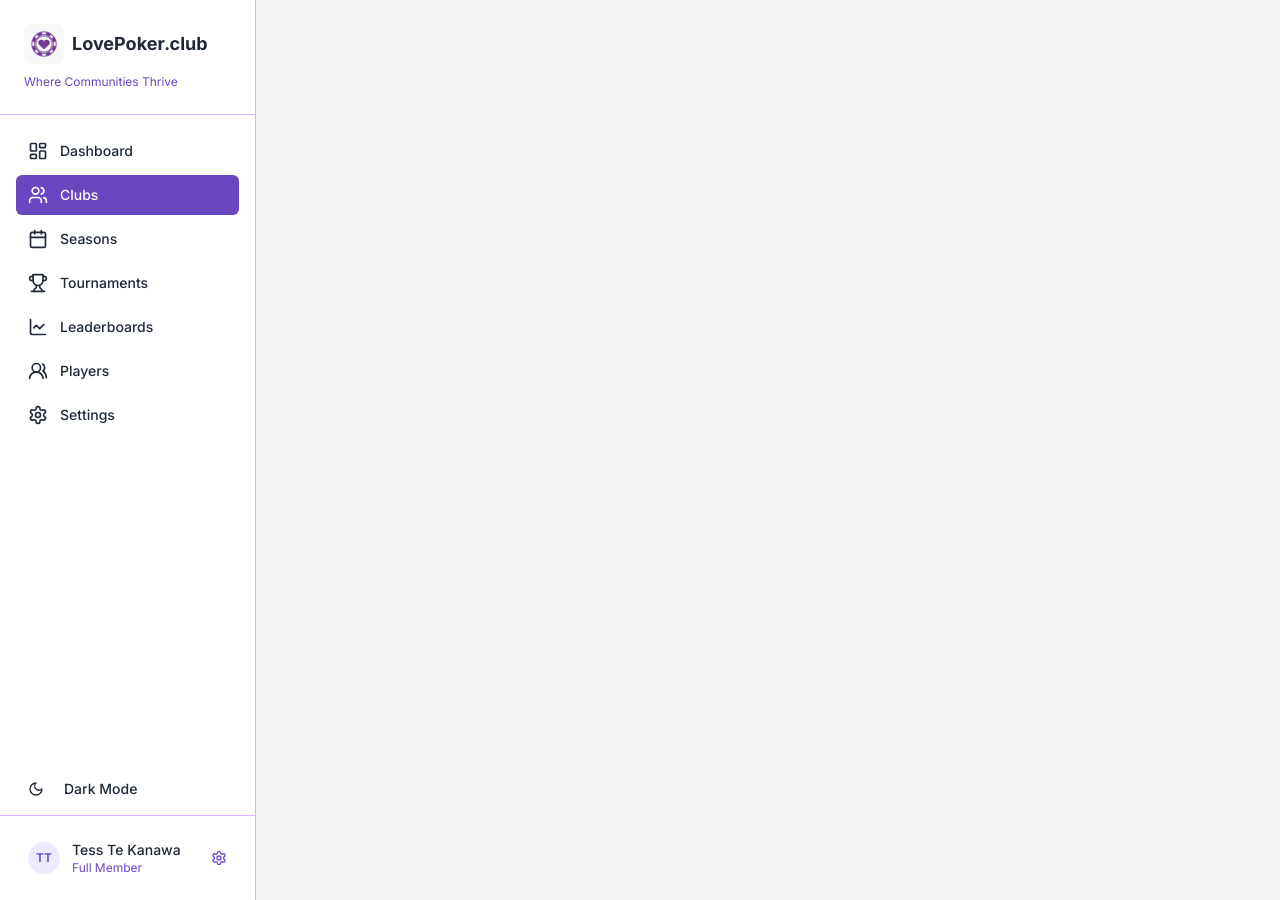
Test: Sidebar › shows who is signed in with their initials, and signs them out from the account menu
This screenshot has width=1280, height=900.
Click the button "TT Tess Te Kanawa Full Member": click(128, 858) left=16, top=832, right=239, bottom=884
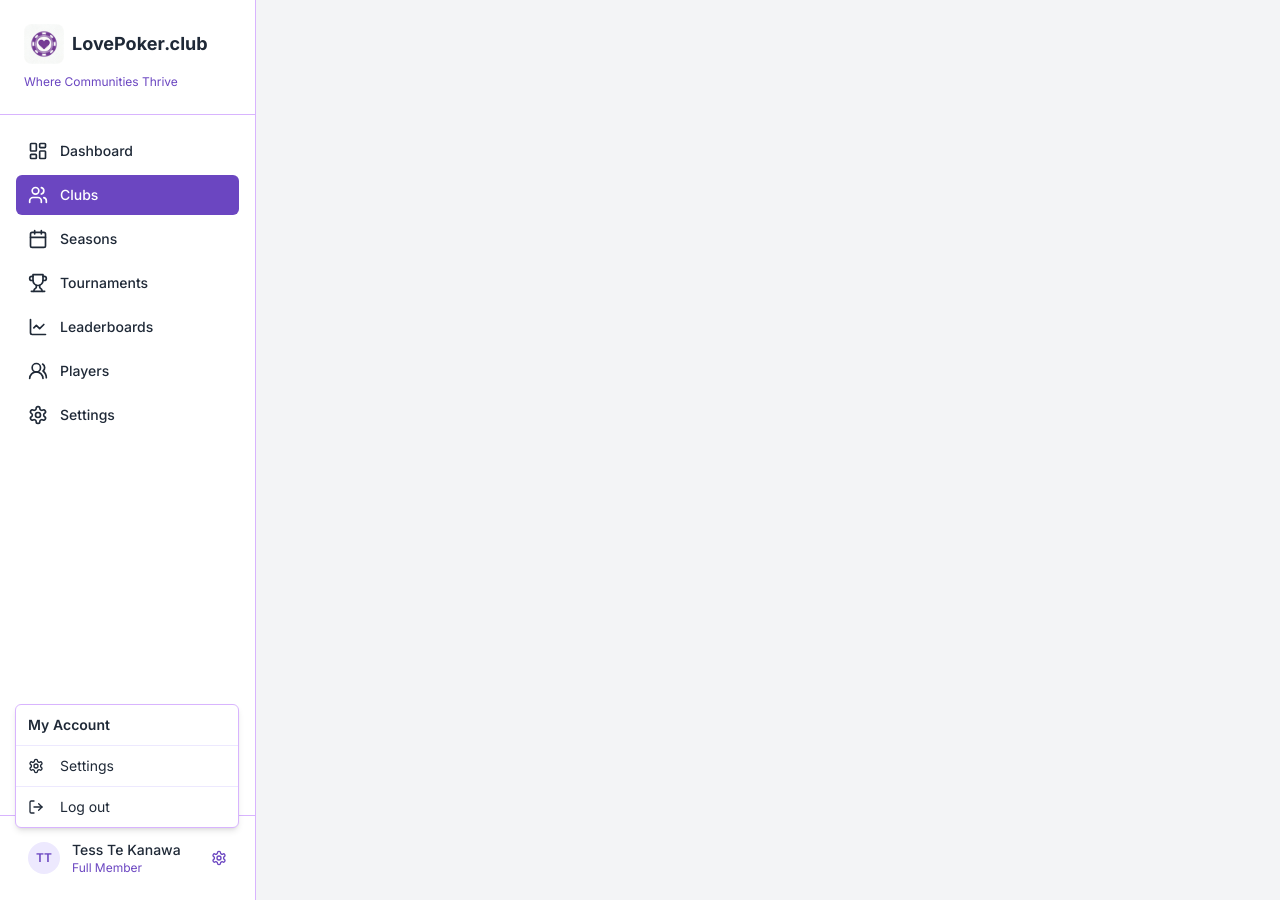
Click the menu item "Log out": click(69, 806) left=28, top=798, right=110, bottom=815
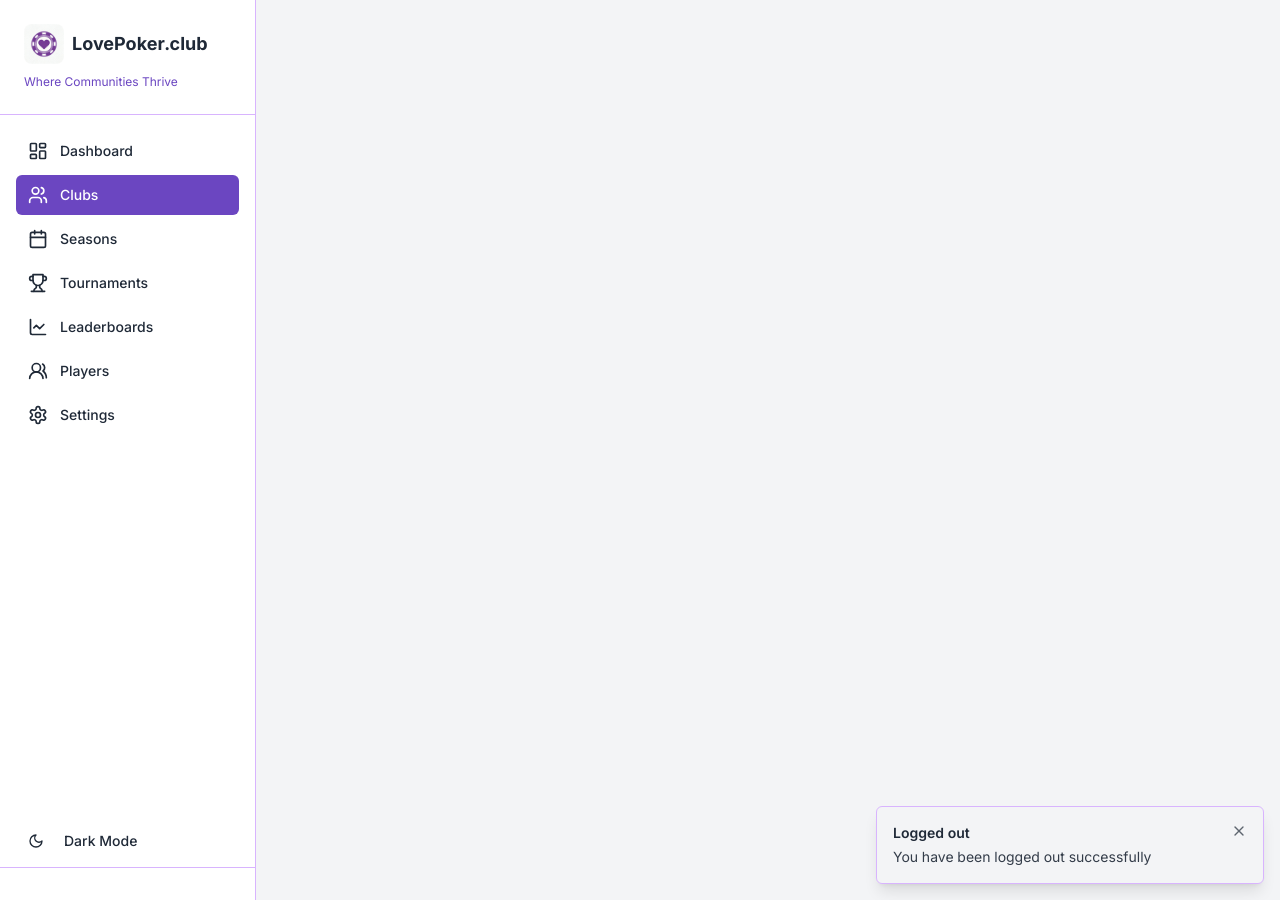
Expected: the text "You have been logged out successfully" is shown, left=893, top=848, right=1152, bottom=865
